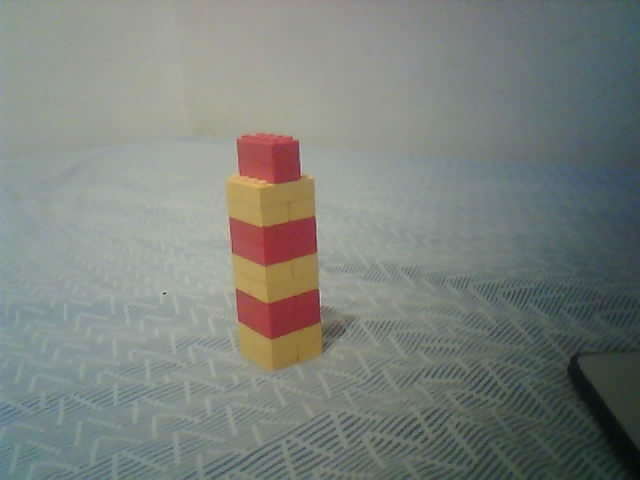lego: (224, 133, 323, 373)
